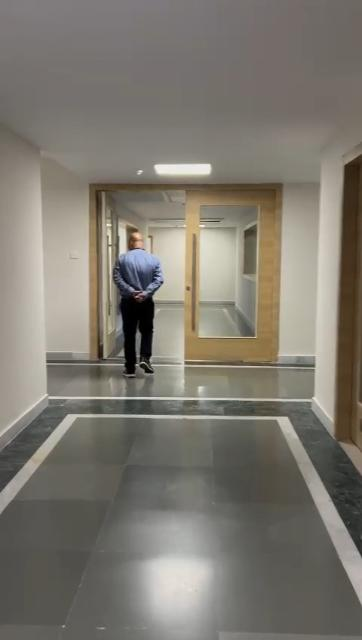door: (180, 185, 284, 362)
floor: (2, 370, 362, 640)
moving-obj: (114, 233, 174, 365)
wall: (3, 126, 89, 425), (291, 178, 331, 352)
